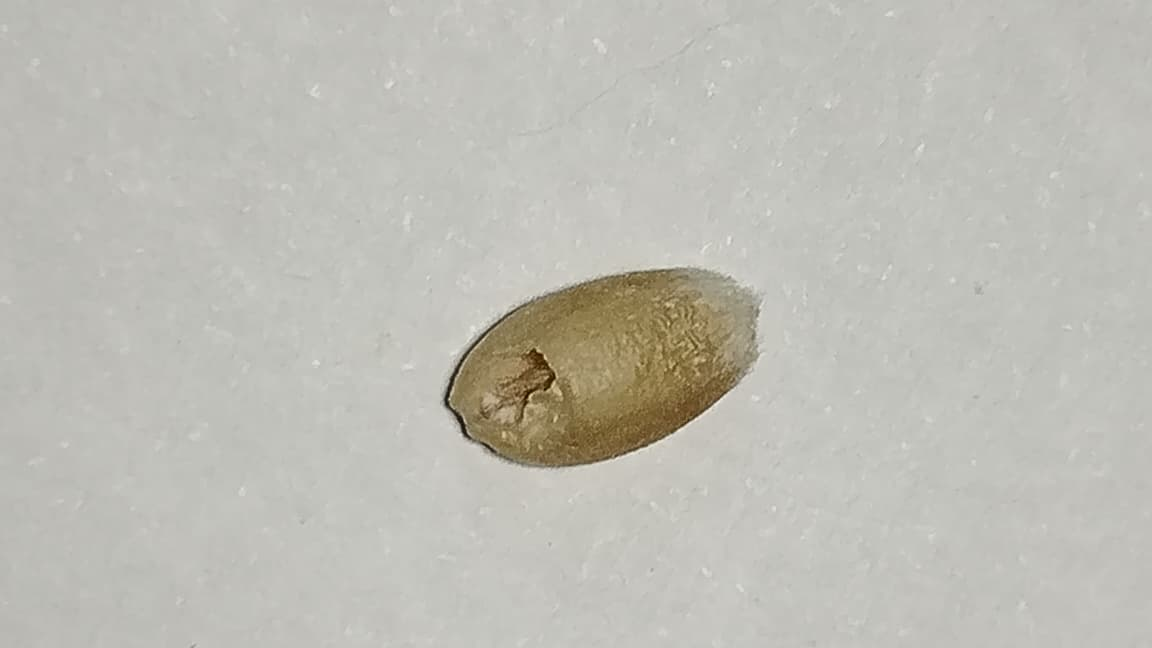damage: (448, 268, 759, 462)
insectdamage: (468, 334, 569, 465)
